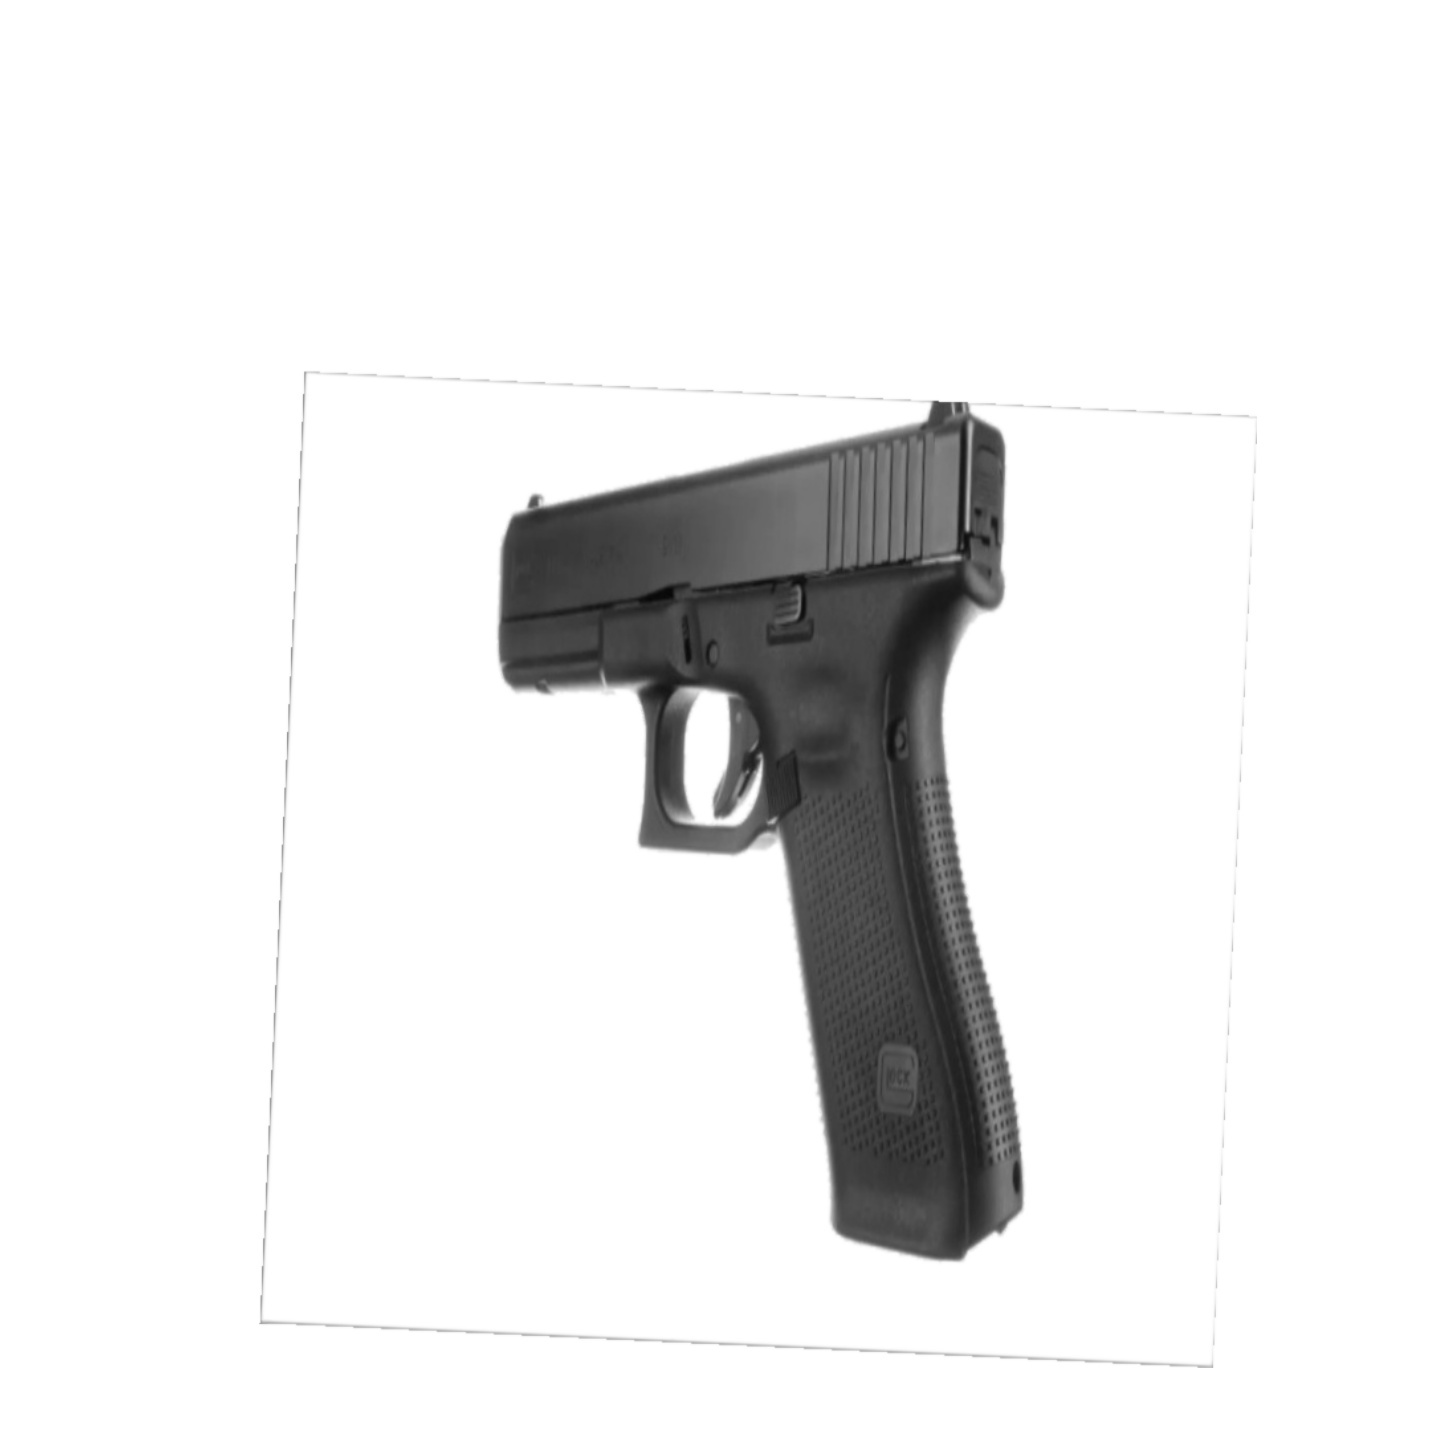gun: (490, 399, 1031, 1264)
